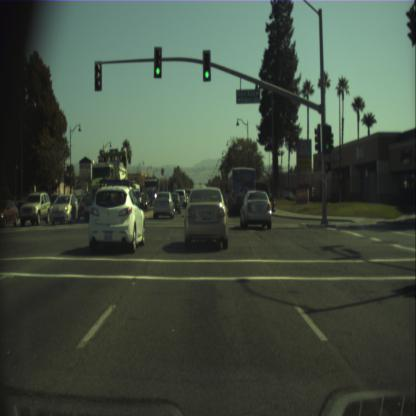Green: (154, 46, 161, 76), (203, 50, 210, 80), (325, 129, 329, 150)
Yellow: (94, 62, 102, 90)
